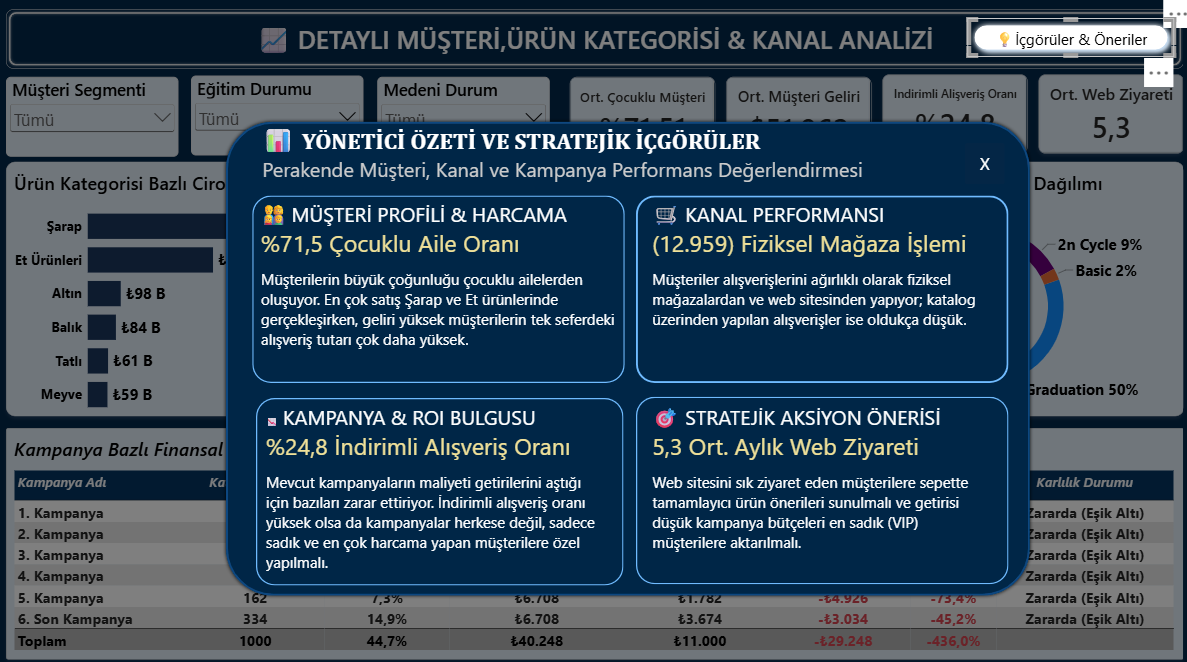

This screenshot's page, from the dashboard's own definition file:
{"tool":"powerbi","page":{"name":"3.sayfa","canvas":[1920,1080],"ordinal":1},"visuals":[{"type":"tableEx","title":"Kampanya Bazlı Finansal Performans & Karlılık Matrisi","fields":{"Values":["vw_Campaign_ROI.Kampanya_Adi","Sum(vw_Campaign_ROI.Kabul_Eden_Kisi)","Sum(vw_Campaign_ROI.Katilim_Orani_Yuzde)","Sum(vw_Campaign_ROI.Kampanya_Iletisim_Maliyeti)","Sum(vw_Campaign_ROI.Kampanya_Geliri)","Sum(vw_Campaign_ROI.Kampanya_Net_Kar)","Sum(vw_Campaign_ROI.Kampanya_ROI_Yuzde)","vw_Campaign_ROI.Karlilik_Durumu"]},"box":[15,687.5,1885,370],"z":0},{"type":"cardVisual","fields":{"Data":["Avg(vw_Customer_RFM.Income)"]},"box":[1167.5,125,232.5,127.5],"z":1000},{"type":"cardVisual","fields":{"Data":["Avg(vw_Genel_KPI.Indirimli_Oran)"]},"box":[1417.5,122.5,232.5,127.5],"z":2000},{"type":"shape","box":[15,17.5,1885,95],"z":3000},{"type":"cardVisual","fields":{"Data":["Avg(vw_Customer_RFM.NumWebVisitsMonth)"]},"box":[1667.5,122.5,232.5,127.5],"z":4000},{"type":"clusteredColumnChart","title":"Alışveriş Kanalı Tercihi (İşlem Adedi)","fields":{"Category":["vw_Kanal_Tercihleri.Kanal"],"Y":["Sum(vw_Kanal_Tercihleri.Islem_Adedi)"]},"box":[632.5,262.5,615,407.5],"z":5000},{"type":"slicer","fields":{"Values":["vw_Customer_RFM.Marital_Status"]},"box":[610,125,276,128],"z":6000},{"type":"slicer","fields":{"Values":["vw_Customer_RFM.Education"]},"box":[312,124,276,128],"z":7000},{"type":"slicer","fields":{"Values":["vw_Customer_RFM.Customer_Segment"]},"box":[15,125,276,128],"z":8000},{"type":"cardVisual","fields":{"Data":["Avg(vw_Genel_KPI.Cocuklu_Mu)"]},"box":[917.5,125,232.5,127.5],"z":9000},{"type":"clusteredBarChart","title":"Ürün Kategorisi Bazlı Ciro Dağılımı (₺)","fields":{"Category":["vw_Urun_Kategorileri.Kategori"],"Y":["Sum(vw_Urun_Kategorileri.Harcama)"]},"box":[15,262.5,595,407.5],"z":10000},{"type":"donutChart","title":"Müşteri Eğitim & Demografi Dağılımı","fields":{"Category":["vw_Customer_RFM.Education"],"Y":["CountNonNull(vw_Customer_RFM.ID)"]},"box":[1265,262.5,635,407.5],"z":11000},{"type":"actionButton","box":[1554,32,332,62],"z":12000}]}

Visuals, with their boxes on the page's 1920x1080 design canvas (x1, y1, x2, y2). These are canvas units, not pixel positions in the 1187x662 screenshot, which may show the page scaled, cropped or inside an application window:
"Kampanya Bazlı Finansal Performans & Karlılık Matrisi" tableEx: 15,688,1900,1058
cardVisual - Avg(vw_Customer_RFM.Income): 1168,125,1400,252
cardVisual - Avg(vw_Genel_KPI.Indirimli_Oran): 1418,122,1650,250
shape: 15,18,1900,112
cardVisual - Avg(vw_Customer_RFM.NumWebVisitsMonth): 1668,122,1900,250
"Alışveriş Kanalı Tercihi (İşlem Adedi)" clusteredColumnChart: 632,262,1248,670
slicer - vw_Customer_RFM.Marital_Status: 610,125,886,253
slicer - vw_Customer_RFM.Education: 312,124,588,252
slicer - vw_Customer_RFM.Customer_Segment: 15,125,291,253
cardVisual - Avg(vw_Genel_KPI.Cocuklu_Mu): 918,125,1150,252
"Ürün Kategorisi Bazlı Ciro Dağılımı (₺)" clusteredBarChart: 15,262,610,670
"Müşteri Eğitim & Demografi Dağılımı" donutChart: 1265,262,1900,670
actionButton: 1554,32,1886,94
